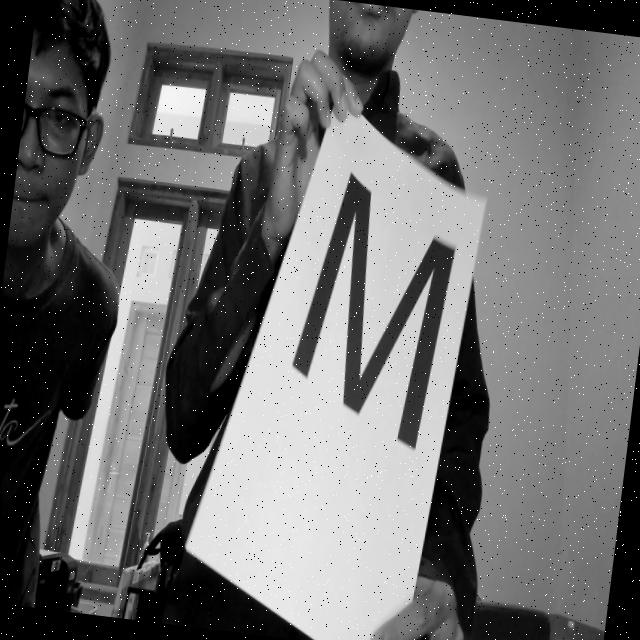m: (275, 160, 473, 478)
